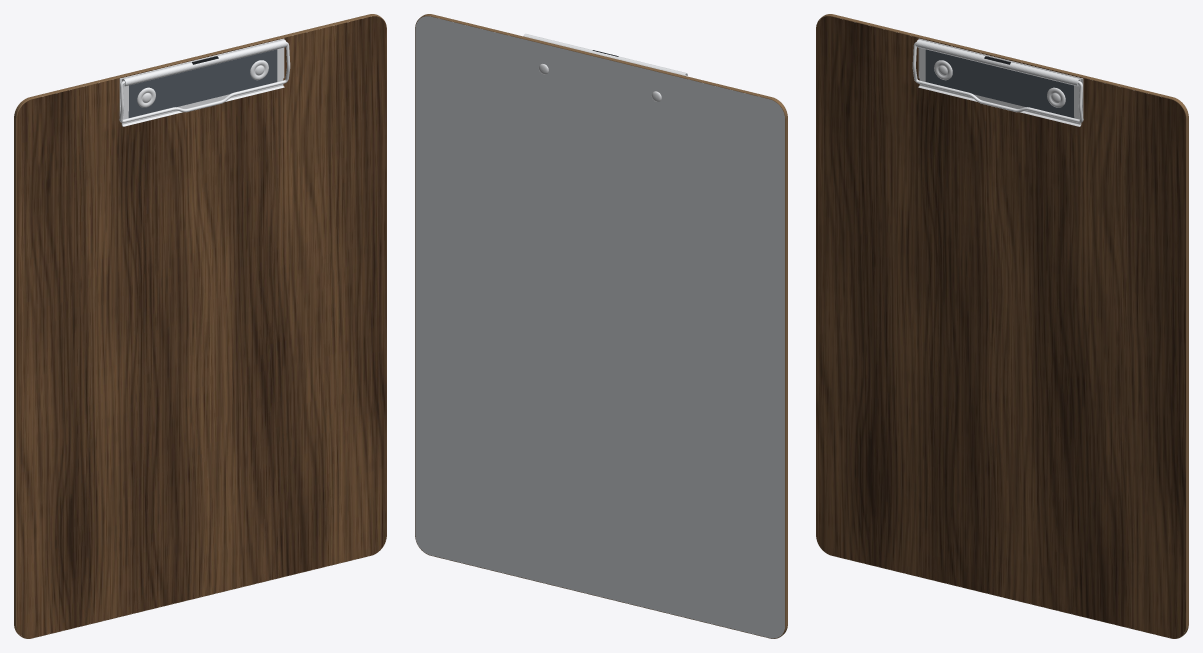
Rendered from laminate-mdf-base-clipboard.glb.
The picture shows the model from 3 angles, left to right: view 1: azimuth 30°, elevation 25°; view 2: azimuth 150°, elevation 25°; view 3: azimuth 330°, elevation 25°; orthographic projection.
Parts seen in each view (by area): view 1: clipboard-board, clipboard-clip, clipboard-clip-lever; view 2: clipboard-board, clipboard-clip; view 3: clipboard-board, clipboard-clip, clipboard-clip-lever.
Boxes of the visible parts, bbox=[...] form: clipboard-board: bbox=[14, 14, 386, 638]; clipboard-clip: bbox=[121, 39, 286, 126]; clipboard-clip-lever: bbox=[119, 42, 290, 122]; clipboard-board: bbox=[415, 14, 787, 638]; clipboard-clip: bbox=[523, 33, 687, 75]; clipboard-board: bbox=[816, 14, 1188, 638]; clipboard-clip: bbox=[916, 39, 1081, 126]; clipboard-clip-lever: bbox=[912, 42, 1083, 122].
Size of the model in its own units: 0.23 by 0.32 by 0.0087.
Materials: 6 (1 with a texture image).
